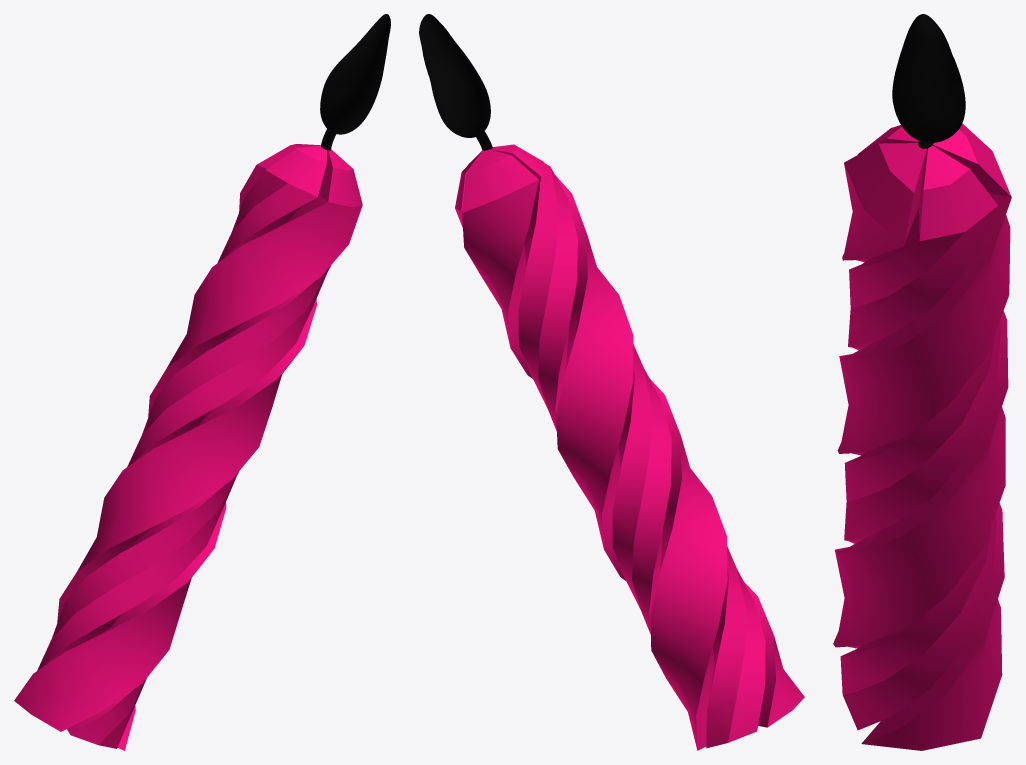
Rendered from candle.obj.
3 views of the same model, side by side, from view 1: azimuth 30°, elevation 25°; view 2: azimuth 150°, elevation 25°; view 3: azimuth 270°, elevation 25° (orthographic). The views are drawn at different scales.
Parts seen in each view (by area): view 1: dynamic; view 2: dynamic; view 3: dynamic.
Part boxes in pixels (x1=…): dynamic: x1=14, y1=14, x2=390, y2=750; dynamic: x1=419, y1=14, x2=804, y2=750; dynamic: x1=833, y1=14, x2=1011, y2=750.
Size of the model in its own units: 68.33 by 117 by 20.39.
